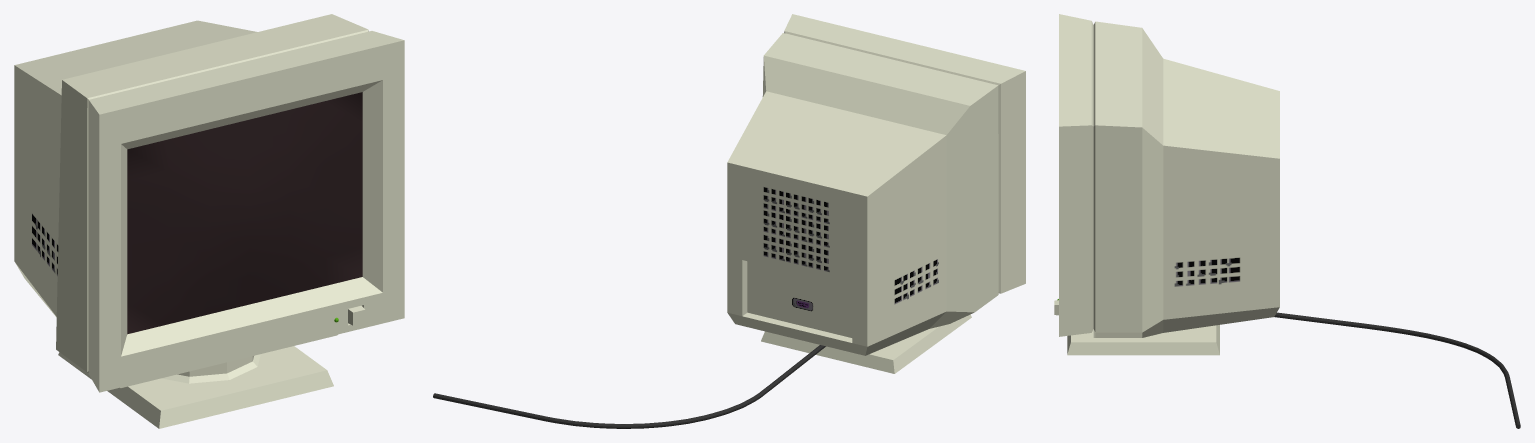
Rendered from monitor.fbx.
3 views of the same model, side by side, from view 1: azimuth 30°, elevation 25°; view 2: azimuth 150°, elevation 25°; view 3: azimuth 270°, elevation 25° (orthographic). The views are drawn at different scales.
Parts seen in each view (by area): view 1: Monitor; view 2: Monitor, ComputerCable; view 3: Monitor, ComputerCable.
Part boxes in pixels (box(x1,y1,x2,y2)): Monitor: box(14, 14, 404, 428); Monitor: box(727, 14, 1025, 373); ComputerCable: box(433, 345, 825, 428); Monitor: box(1059, 14, 1279, 355); ComputerCable: box(1274, 312, 1520, 428).
Bounding box in the file's own units: 358 × 244 × 408.
